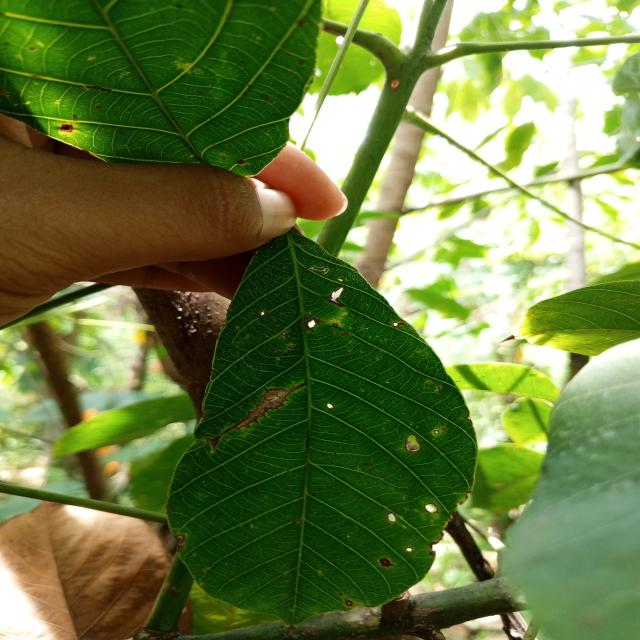Colletotrichum: (424, 503, 438, 513), (386, 512, 397, 523), (325, 402, 335, 410), (404, 547, 413, 552), (280, 332, 287, 338), (434, 430, 439, 434), (289, 345, 294, 348), (333, 324, 338, 326)
Corynespora: (224, 381, 308, 434)
